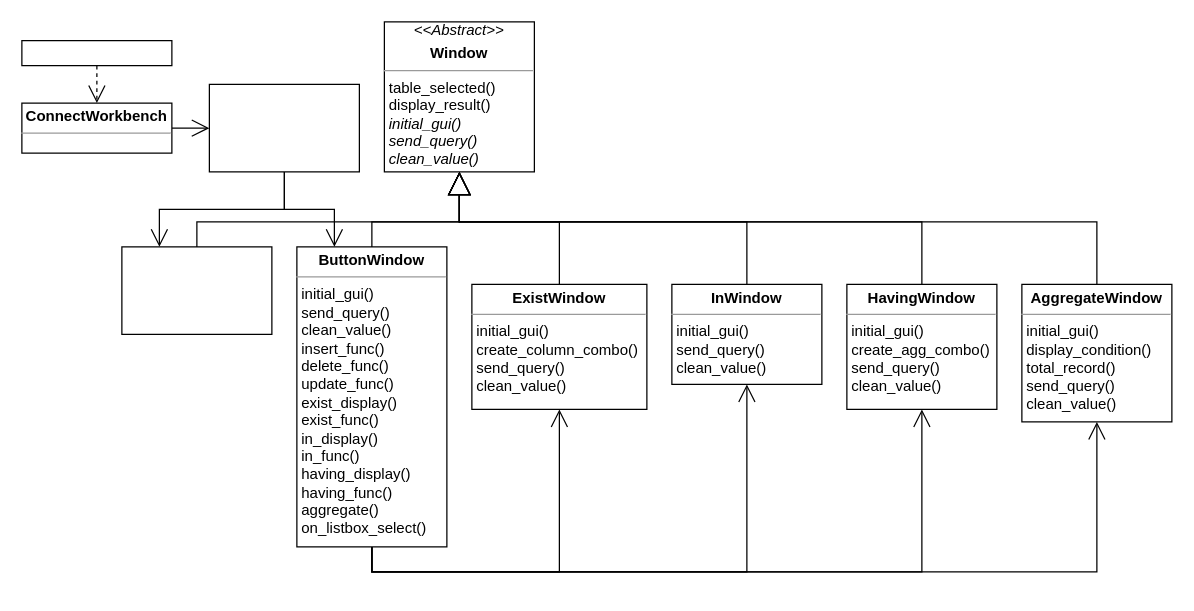
The diagram is 1194 pixels wide and 611 high, and some of its shapes have lost their labels. Here are the shapes that lost their labels. From the top down, the box of each, then its label:
(21, 39, 172, 66): Client
(208, 83, 359, 172): DatabaseWindow query() button()
(121, 246, 272, 334): QueryWindow send_query() clean_value()
